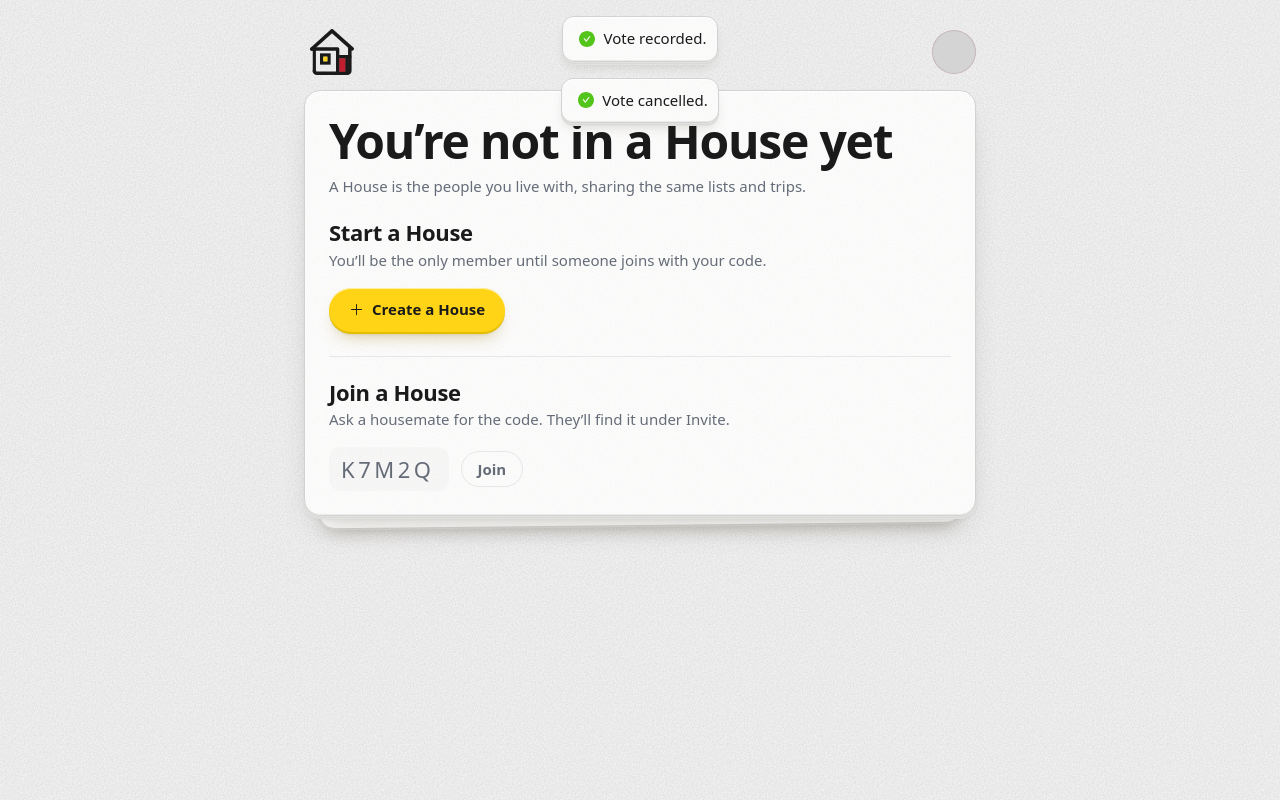
Test: No House yet › joins with a code, and says so inline when the code is wrong
The width and height of the screenshot is (1280, 800).
expect the button "Join" is disabled: met, box [460,451,523,487]
// Lowercase and stray characters are cleaned as you type.
Type "k7m-2q" into the field named "House code".
click(389, 469); type("k7m-2q")  # box [329,447,448,491]
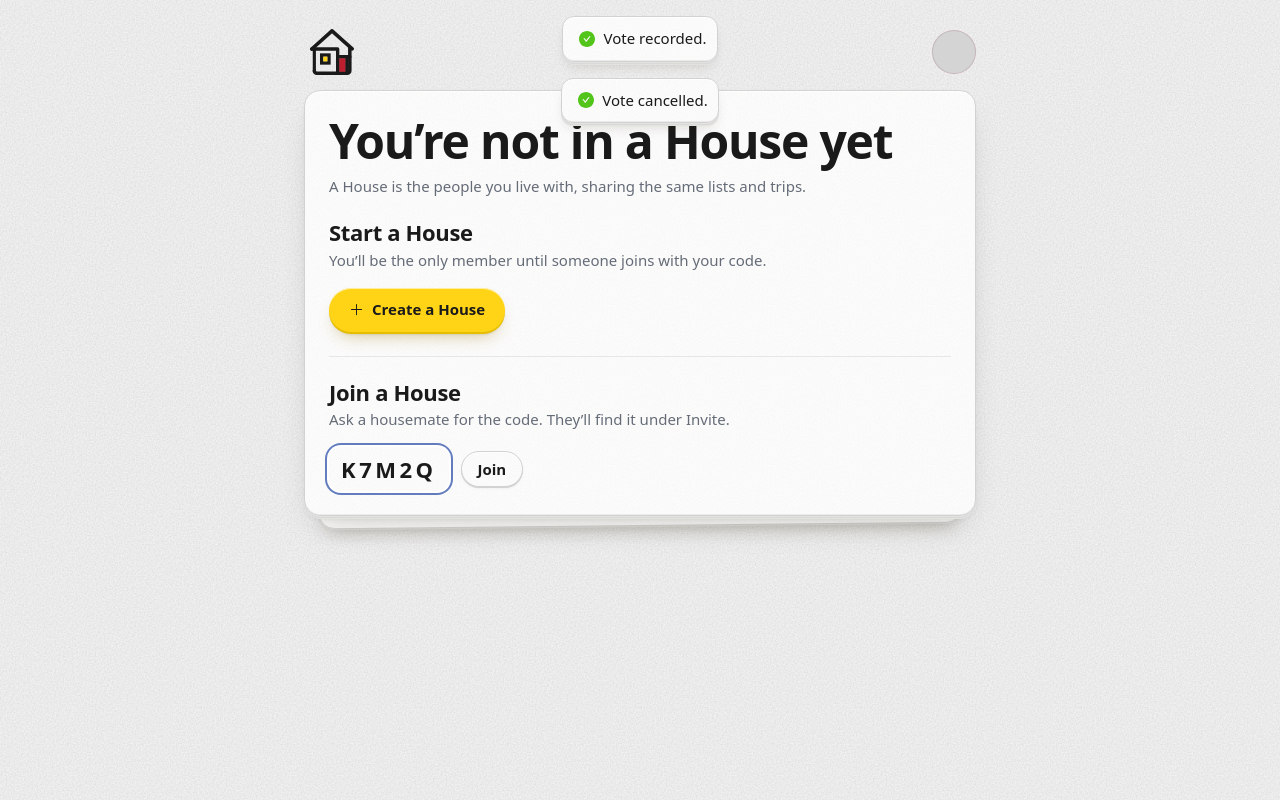
expect the field named "House code" holds "K7M2Q": met, box [329,447,448,491]
Click the button "Join".
click(492, 469)  # box [460,451,523,487]
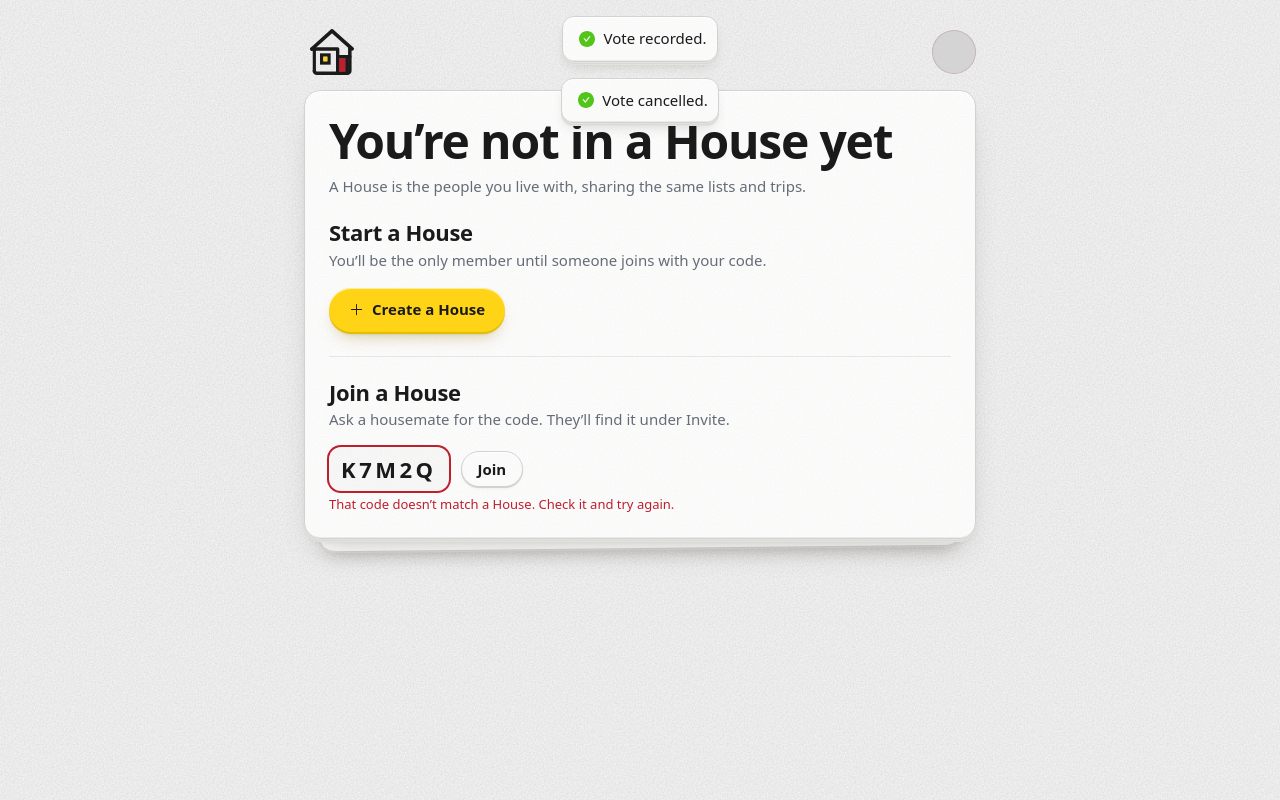
expect the message shows "doesn’t match a House": met, box [329,495,674,513]
